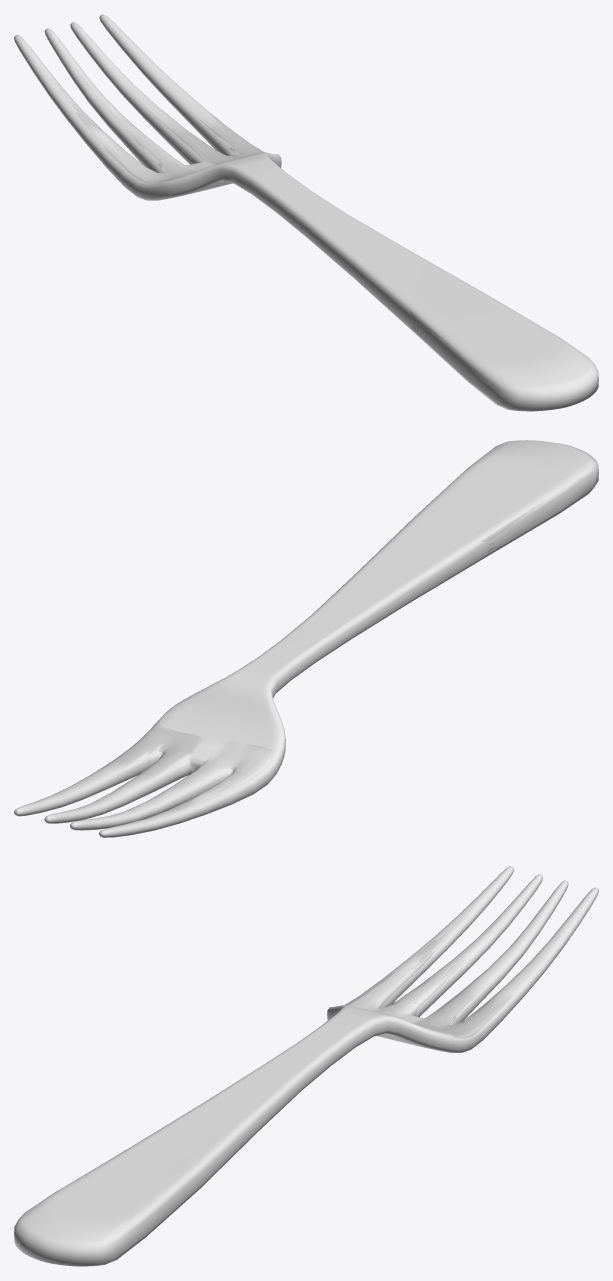
File: fork.fbx
The picture shows the model from 3 angles, top to bottom: view 1: azimuth 30°, elevation 25°; view 2: azimuth 150°, elevation 25°; view 3: azimuth 330°, elevation 25°; orthographic projection.
Parts seen in each view (by area): view 1: fork; view 2: fork; view 3: fork.
Boxes of the visible parts, x1=… form: fork: x1=14, y1=14, x2=598, y2=411; fork: x1=14, y1=440, x2=598, y2=837; fork: x1=14, y1=866, x2=598, y2=1266.
Size of the model in its own units: 0.0389 by 0.0189 by 0.2635.
Materials: 2 (1 with a texture image).
